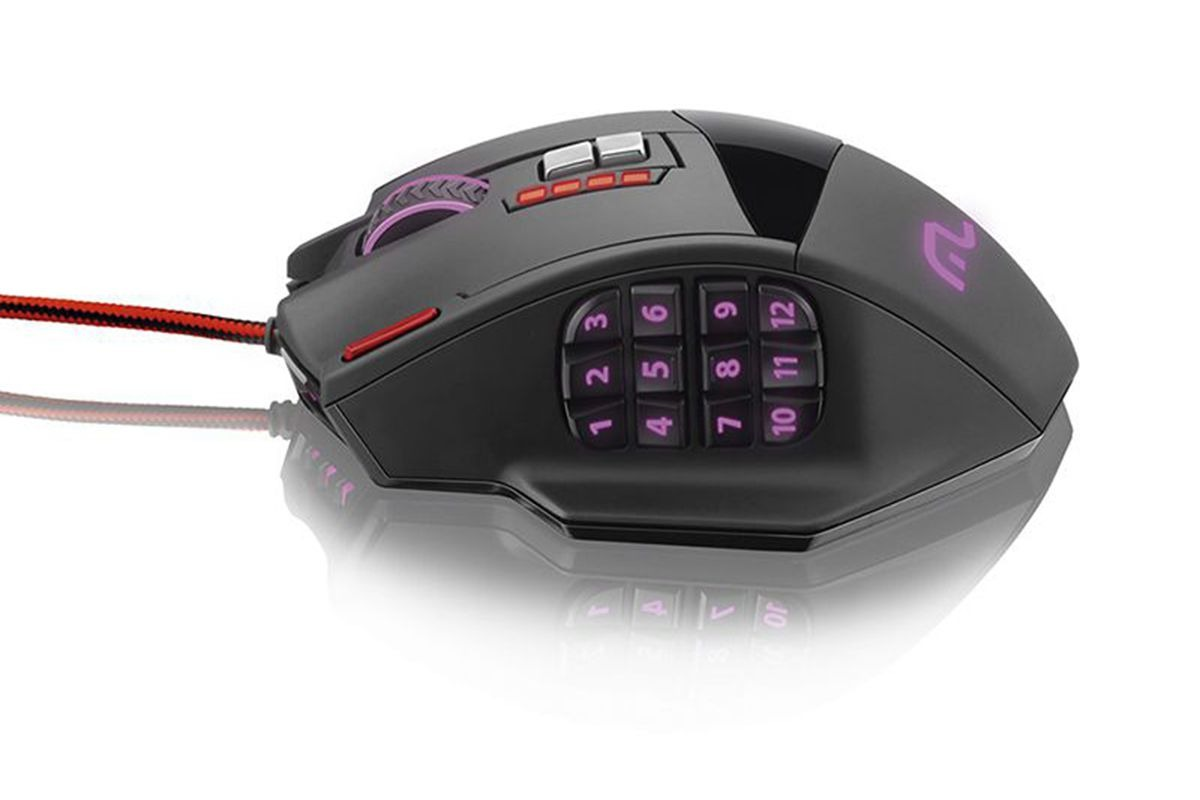mouse: (262, 105, 1086, 575)
